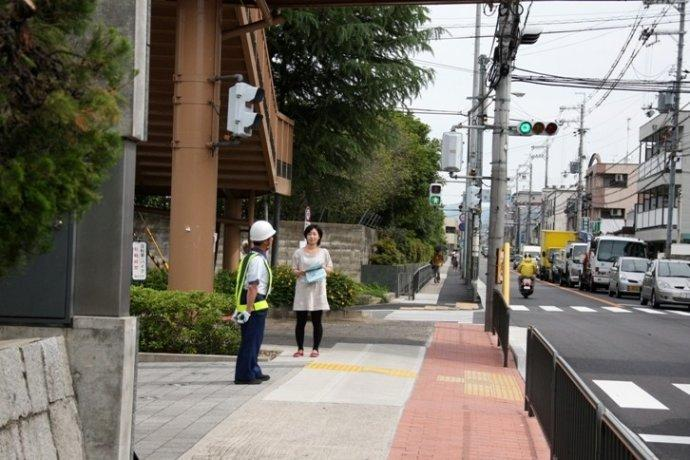helmet: (250, 222, 280, 245)
